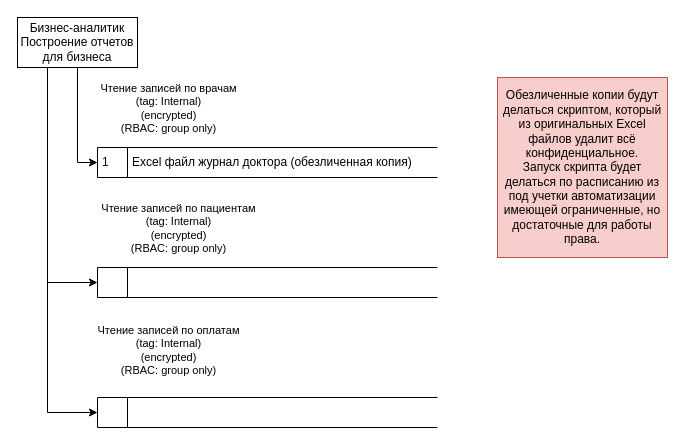
This 685x445 diagram has some shape labels left out. The box of each missing label's shape, as (x1, y1, x2, y2) in pixels:
2 Excel файл учет пациентов (обезличенная копия): (96, 266, 438, 298)
3 Excel файл учет оплат (обезличенная копия): (96, 396, 438, 428)
